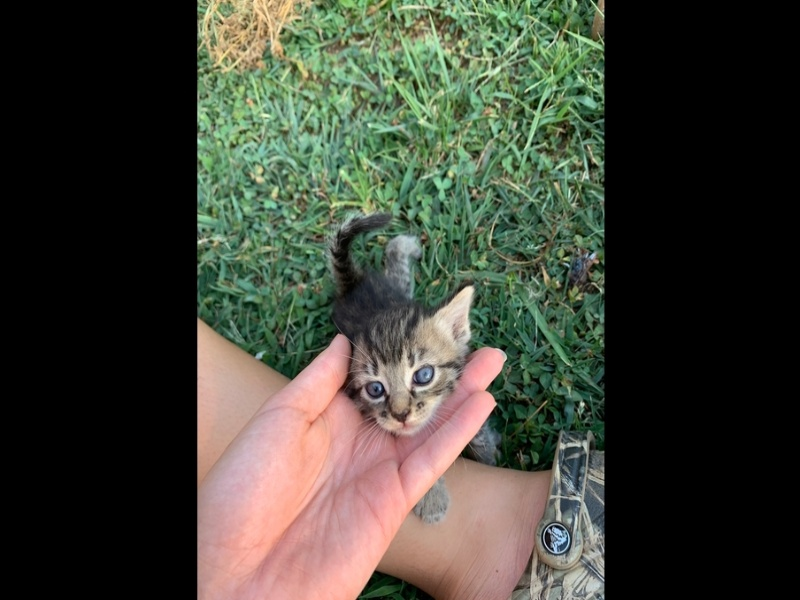cat: (321, 215, 509, 467)
